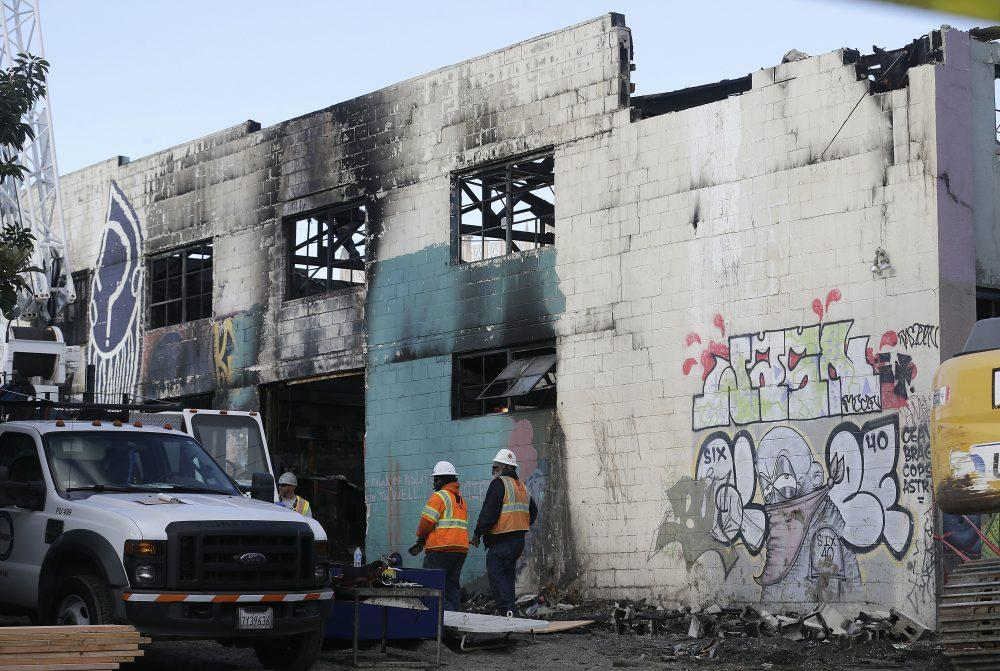graffiti: (692, 320, 937, 586), (90, 182, 144, 392), (143, 307, 263, 386), (910, 508, 940, 598), (898, 316, 941, 355)
